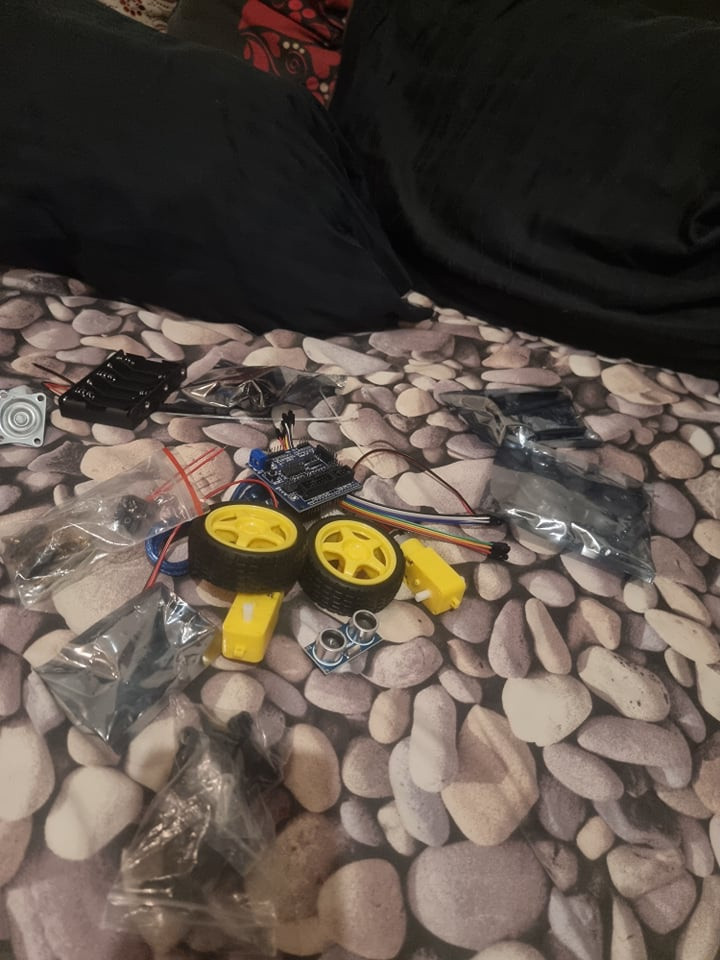5V EXPANSION: (245, 440, 363, 514)
BATTERY BOX: (56, 347, 186, 430)
SENSOR: (301, 610, 384, 676)
